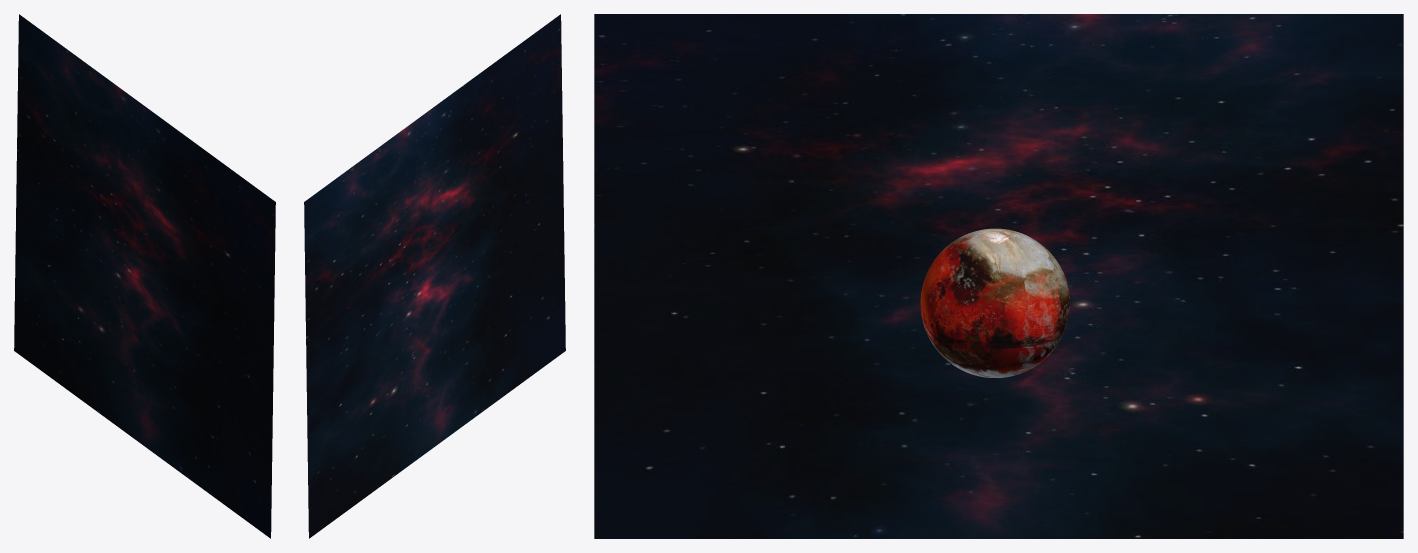
File: Orange Gas Giant.fbx
3 views of the same model, side by side, from view 1: azimuth 30°, elevation 25°; view 2: azimuth 150°, elevation 25°; view 3: azimuth 270°, elevation 25° (orthographic). The views are drawn at different scales.
Visible parts, largest first — view 1: pPlane1; view 2: pPlane1; view 3: pPlane1, pSphere1.
Boxes of the visible parts, bbox=[...] form: pPlane1: bbox=[14, 14, 275, 538]; pPlane1: bbox=[304, 14, 565, 538]; pPlane1: bbox=[594, 14, 1403, 538]; pSphere1: bbox=[920, 228, 1069, 377].
Size of the model in its own units: 14.06 by 38.8 by 53.83.
Materials: 3 (3 with a texture image).
